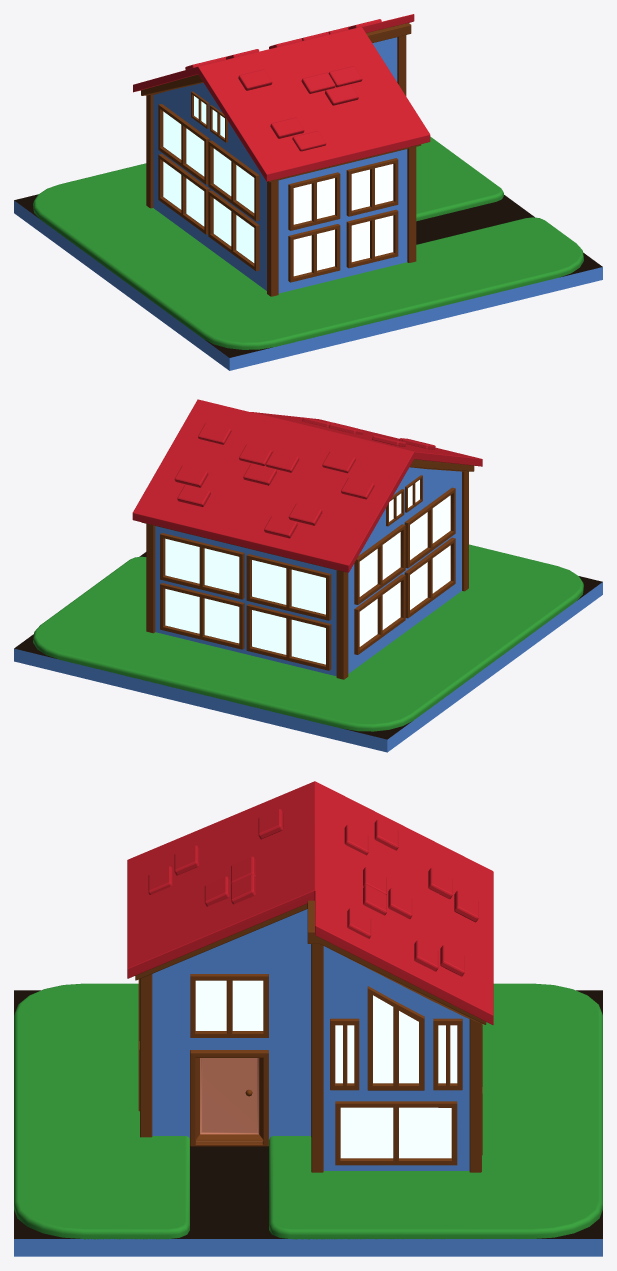
3 views of the same model, one above another, from view 1: azimuth 30°, elevation 25°; view 2: azimuth 150°, elevation 25°; view 3: azimuth 270°, elevation 25° (orthographic). The views are drawn at different scales.
Visible parts, largest first — view 1: house3; view 2: house3; view 3: house3.
Boxes of the visible parts, <box> form: house3: <box>14,14,602,370</box>; house3: <box>14,399,602,752</box>; house3: <box>14,781,602,1256</box>.
Bounding box in the file's own units: 794 × 416 × 794.
